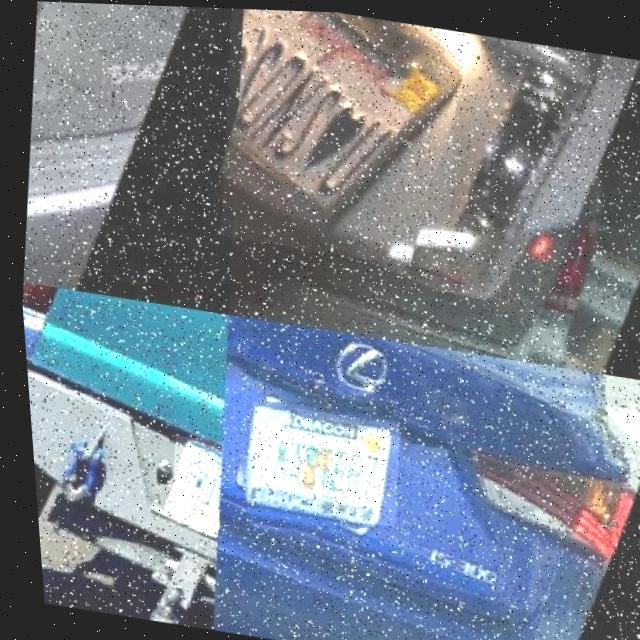LicensePlate: (203, 6, 472, 269), (239, 401, 393, 523), (164, 437, 212, 527)
